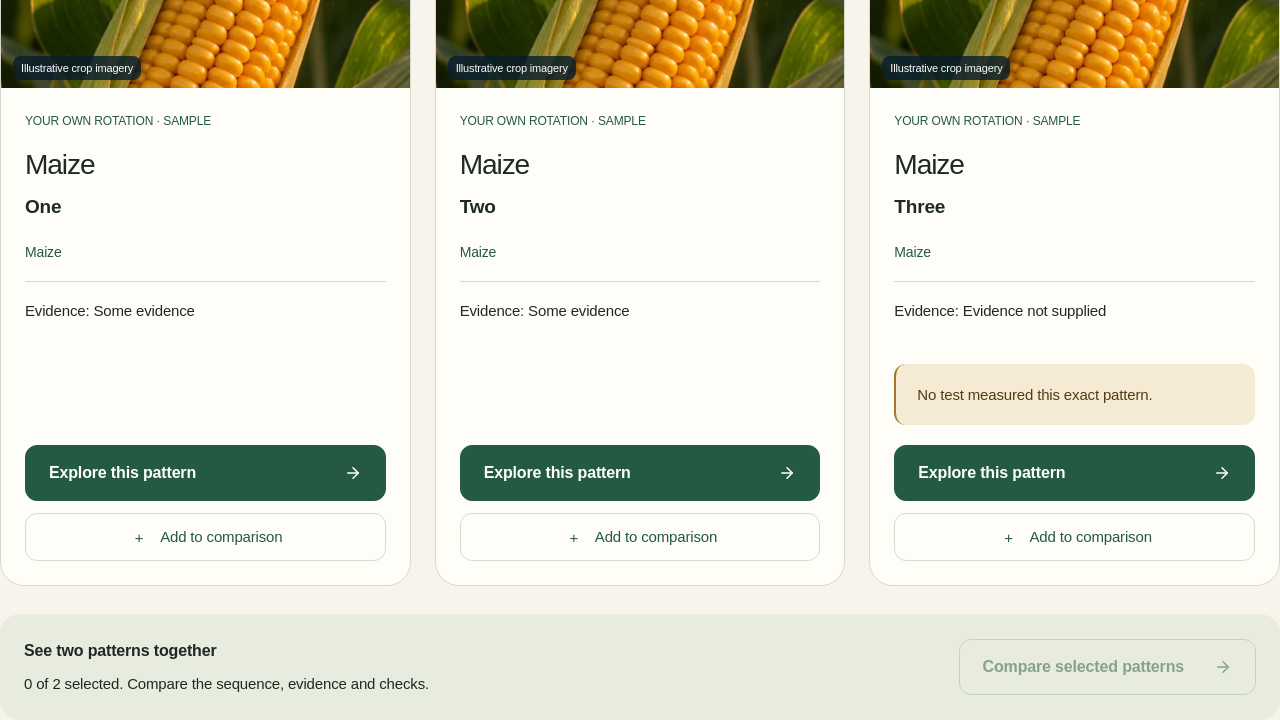
Test case: rotation discovery › limits comparison to two, supports replacement, and renders both complete warnings
The image size is (1280, 720).
Later steps or results of the test are not shown.
(page scrolled)
Expected: the button "Compare selected patterns" is disabled, x1=959 y1=639 x2=1256 y2=695
Click the button with aria-label "Compare One:": (205,537) x1=25 y1=513 x2=386 y2=561
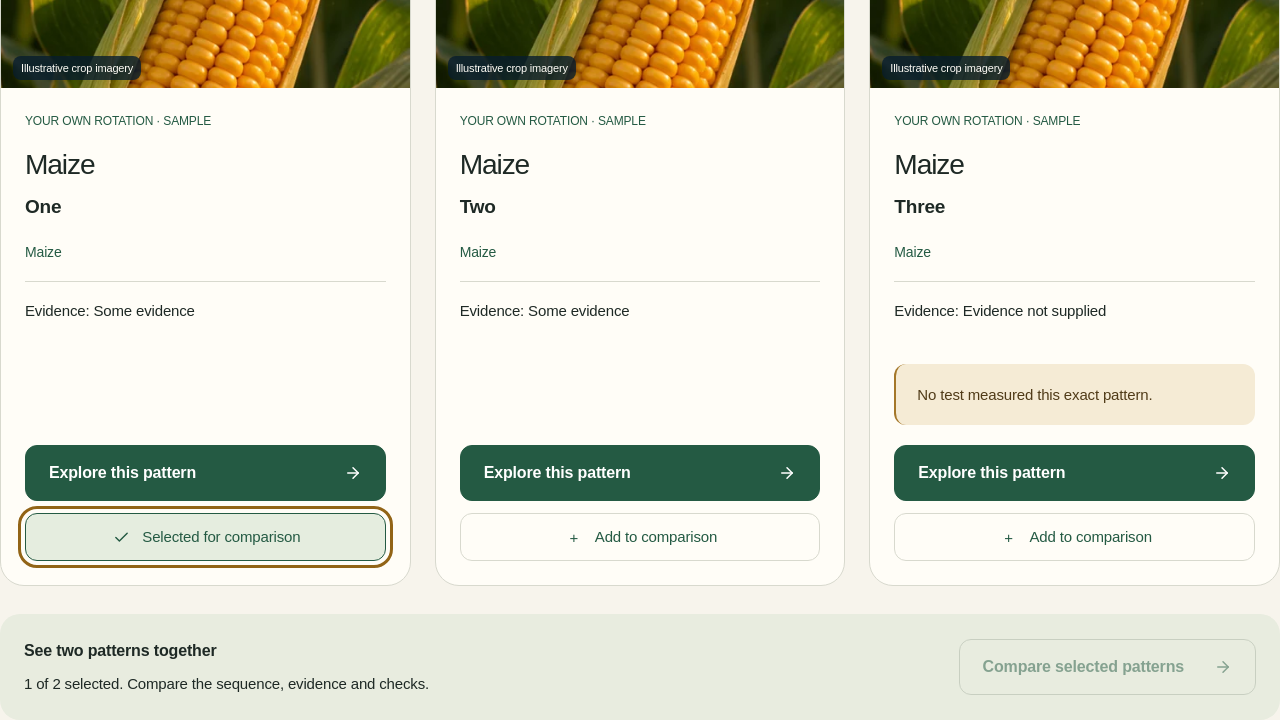
Click the button with aria-label "Compare Two:": (640,537) x1=460 y1=513 x2=820 y2=561
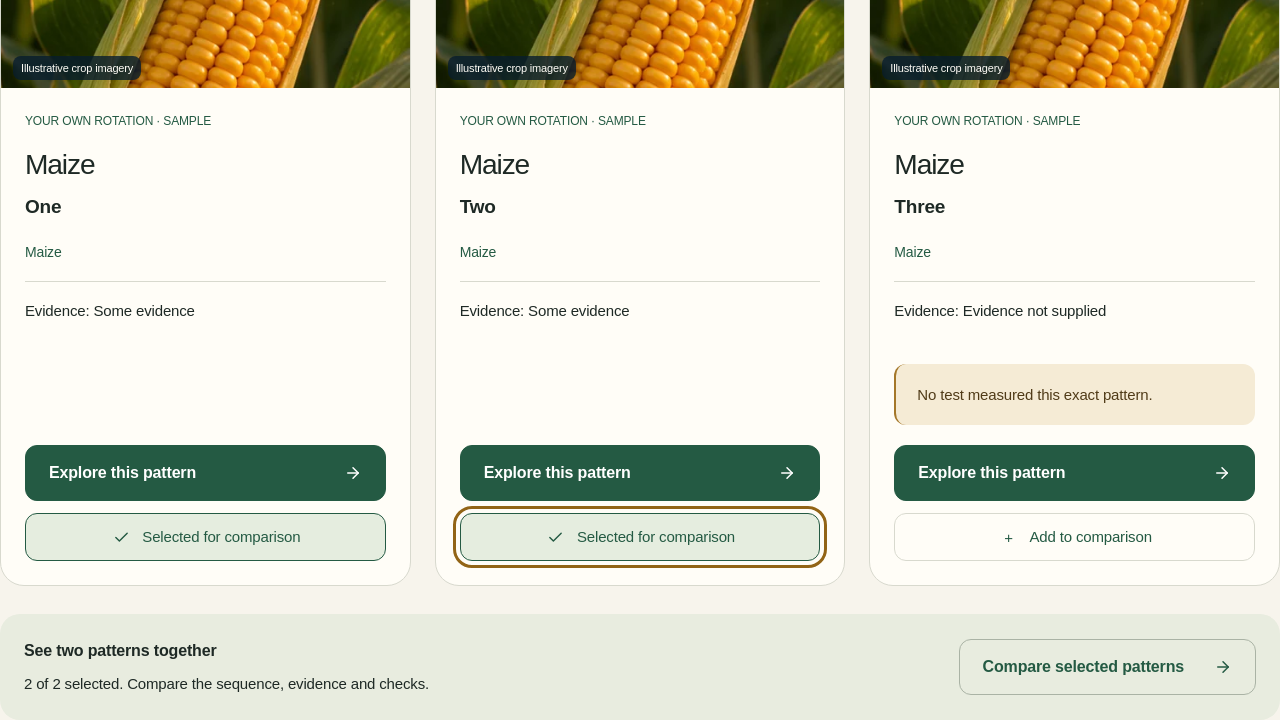
Click the button with aria-label "Compare Three:": (1075,537) x1=894 y1=513 x2=1255 y2=561
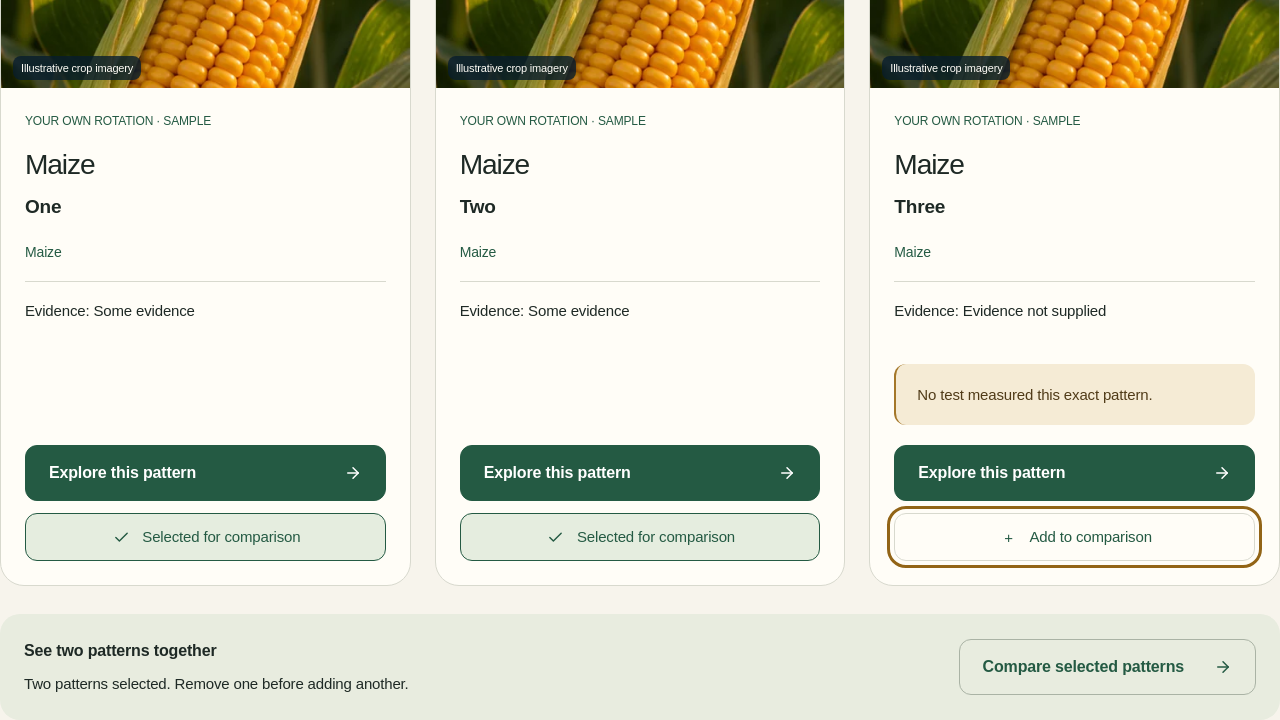
Now the text "Two patterns selected. Remove one before adding another." is shown, box x1=24 y1=671 x2=409 y2=696
Click the button with aria-label "Compare One:": (205,537) x1=25 y1=513 x2=386 y2=561
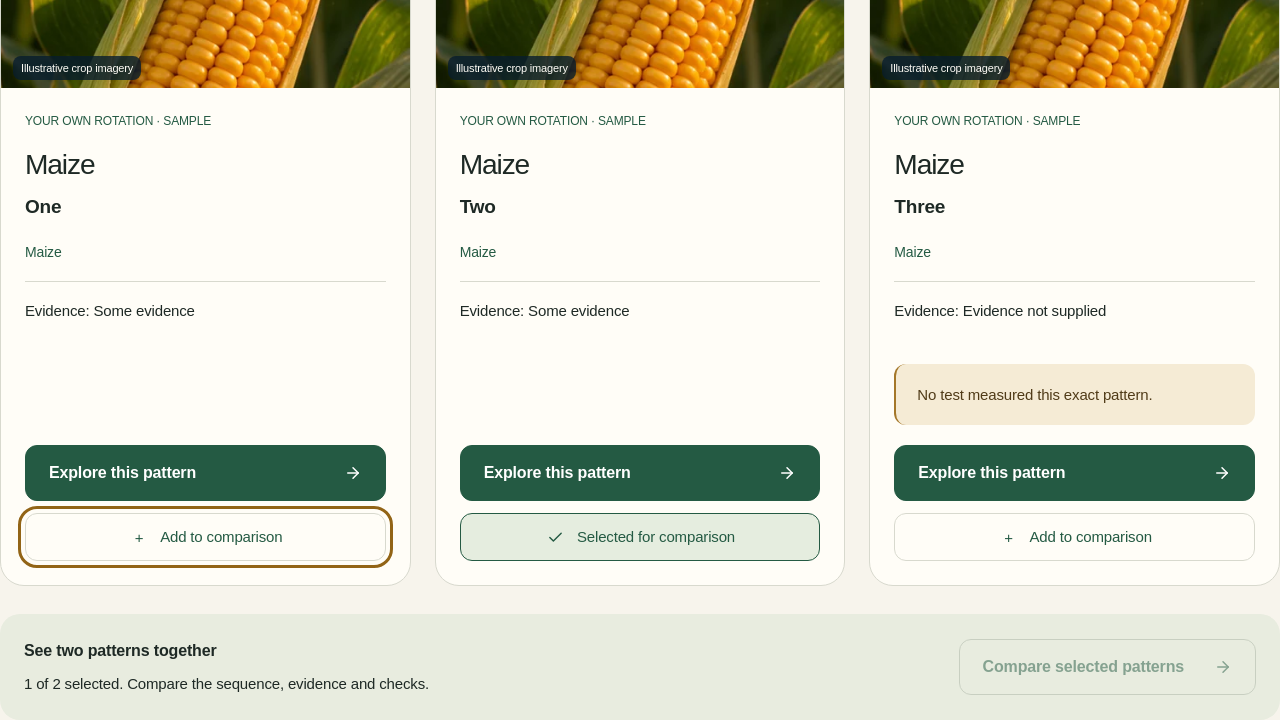
Click the button with aria-label "Compare Three:": (1075,537) x1=894 y1=513 x2=1255 y2=561
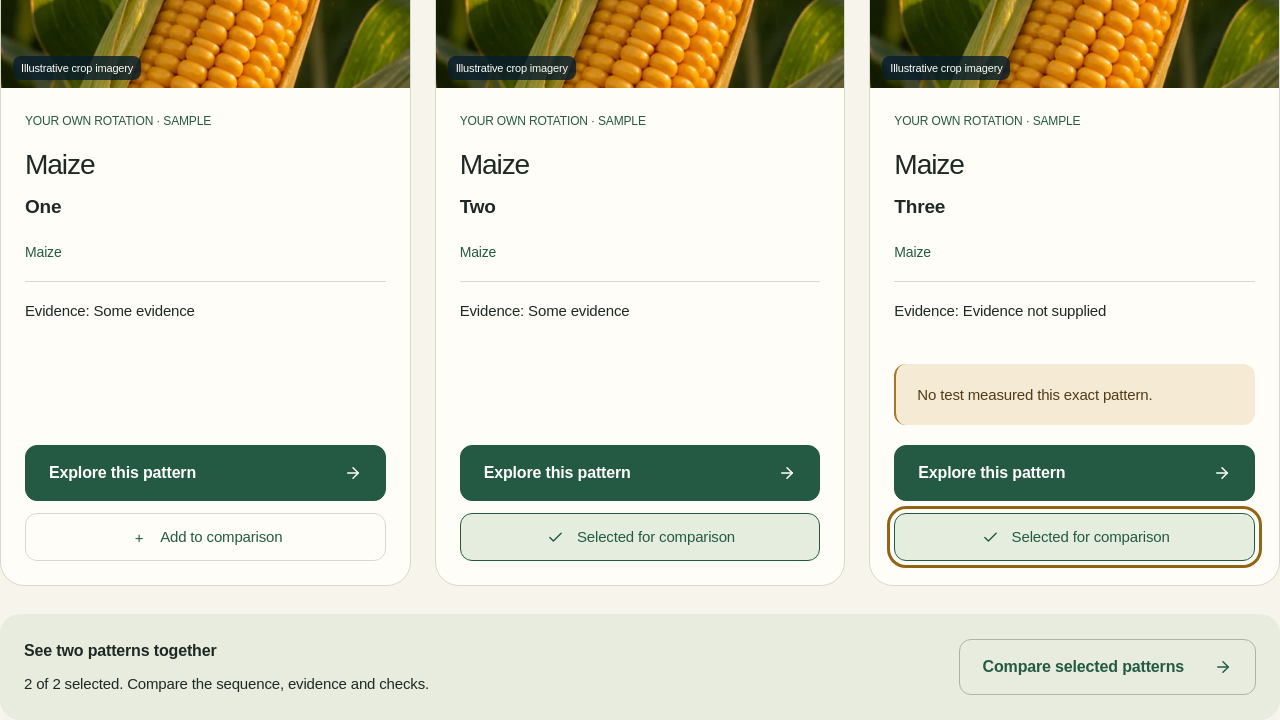
Click the button "Compare selected patterns": (1107,667) x1=959 y1=639 x2=1256 y2=695
(page scrolled)
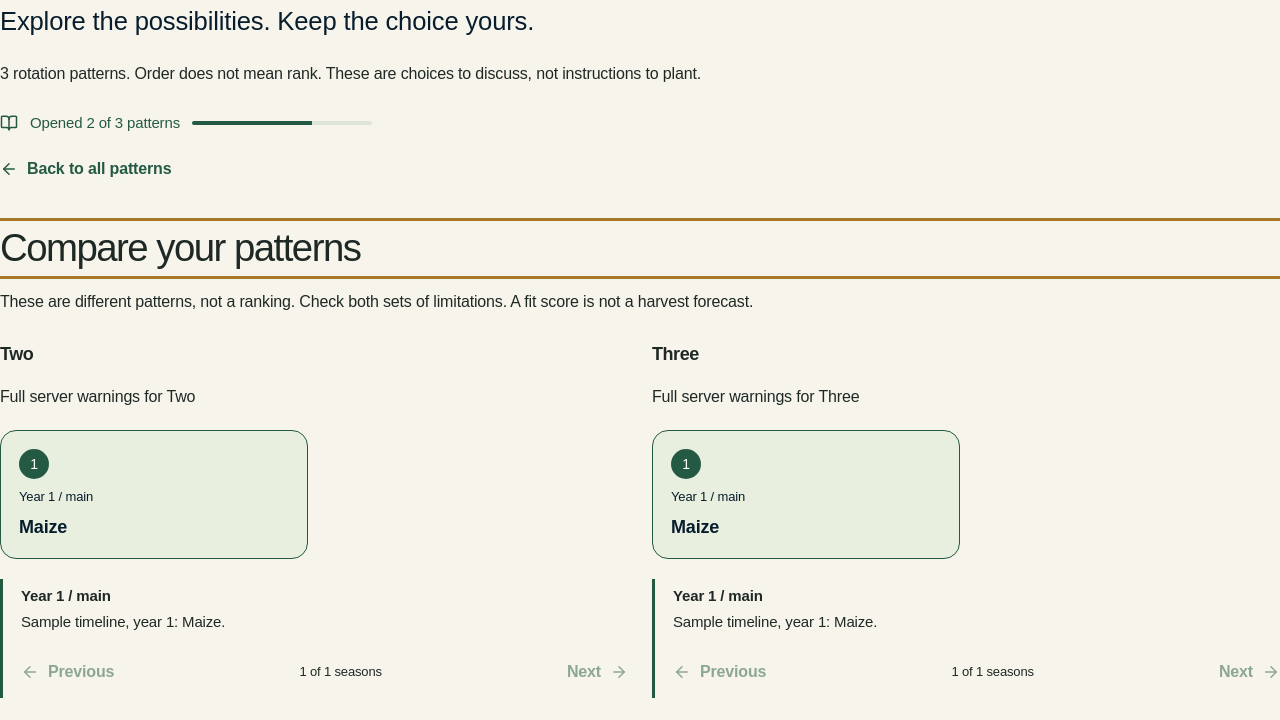
Now the text "Full server warnings for Two" is shown, box x1=0 y1=388 x2=195 y2=405
Now the text "Full server warnings for Three" is shown, box x1=652 y1=388 x2=859 y2=405
Now the text "Opened 2 of 3 patterns" is shown, box x1=30 y1=111 x2=180 y2=136
